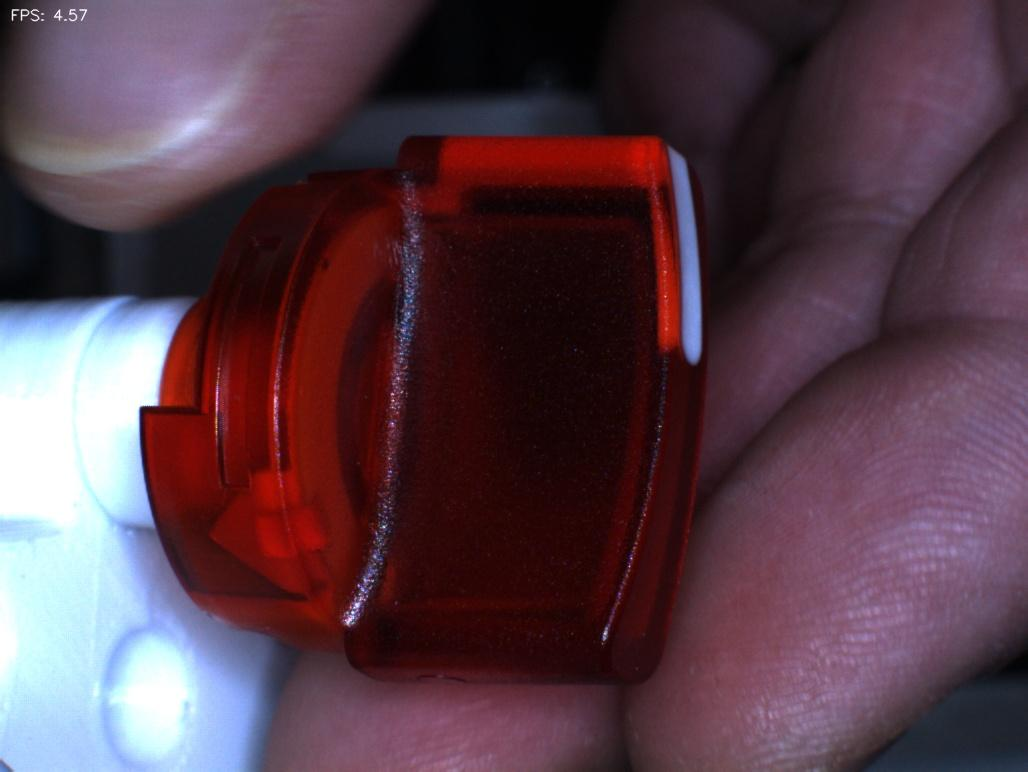Givrage: (365, 206, 427, 313)
